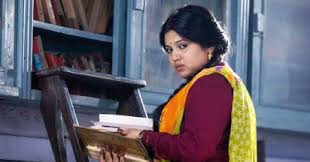indian_female: (141, 7, 240, 98)
